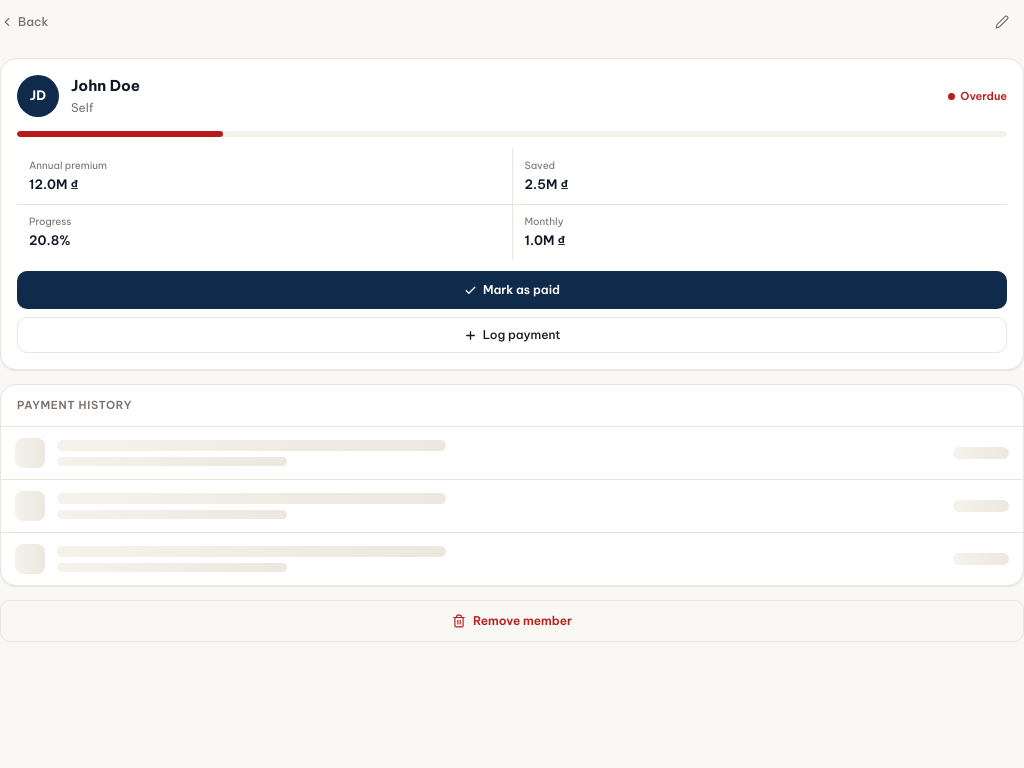
DesktopInsuranceDetail — settle via the payment modal › opens the payment modal in settle mode when the overdue CTA is clicked
# Clicking the CTA opens the modal in settle mode (it does NOT settle on its own).
Click the button with test id "insurance-cta-status" at (512, 290), box x1=17 y1=271 x2=1007 y2=309
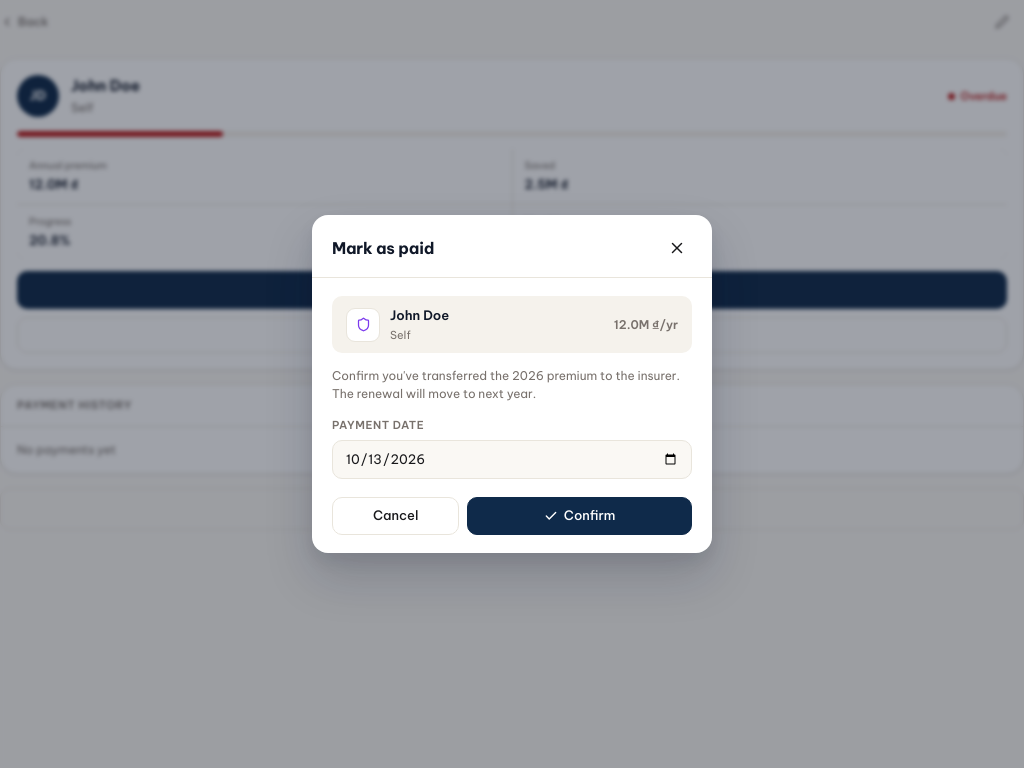
Check: the element with test id "log-payment-modal" is shown
